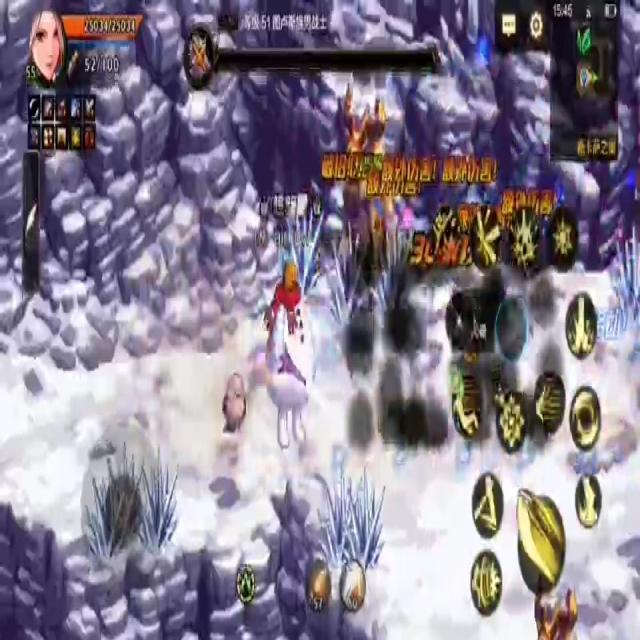player: (258, 252, 323, 453)
